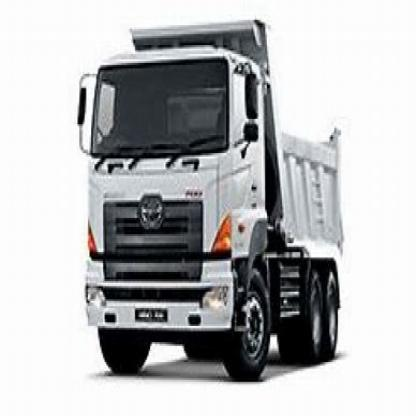dump_truck: (76, 7, 353, 393)
